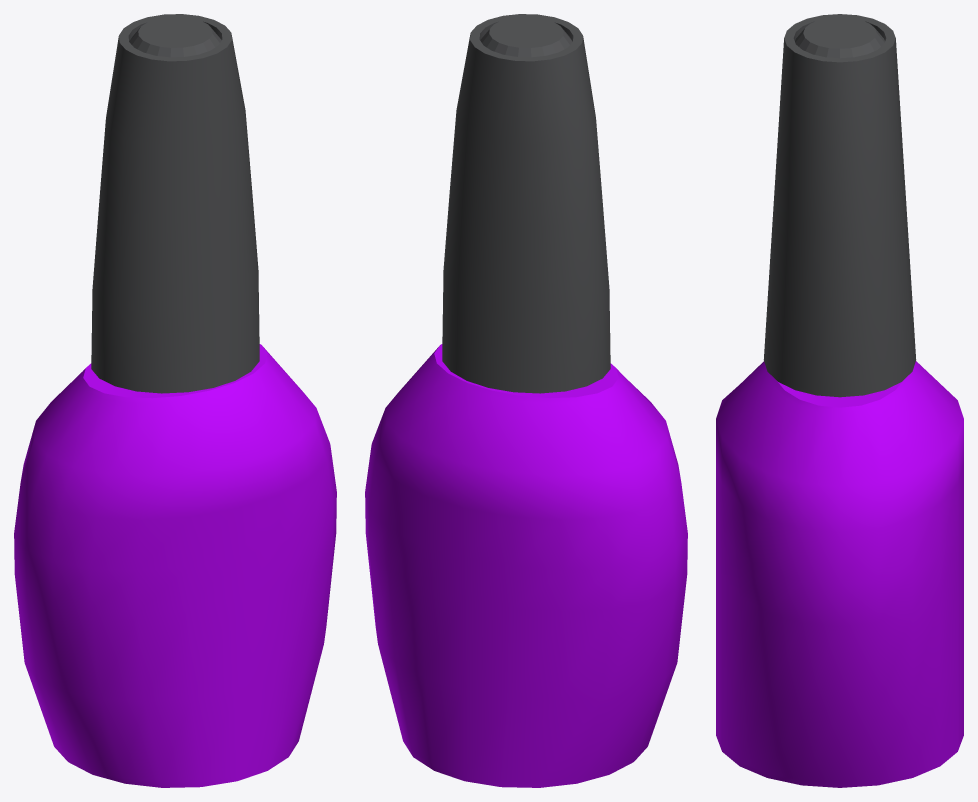
File: nailPolish_lp.fbx
3 renders of one model, left to right at view 1: azimuth 30°, elevation 25°; view 2: azimuth 150°, elevation 25°; view 3: azimuth 270°, elevation 25°, orthographic.
Visible parts, largest first — view 1: body_nailPolish_lp, head_nailPolish_lp; view 2: body_nailPolish_lp, head_nailPolish_lp; view 3: body_nailPolish_lp, head_nailPolish_lp.
Boxes of the visible parts, x1,y1,x2,y2 form: body_nailPolish_lp: (14,344,336,787); head_nailPolish_lp: (91,14,259,393); body_nailPolish_lp: (365,344,687,787); head_nailPolish_lp: (442,14,610,393); body_nailPolish_lp: (716,361,963,787); head_nailPolish_lp: (763,14,916,397).
Size of the model in its own units: 2.78 by 6.26 by 2.
Materials: 2 (2 with a texture image).
